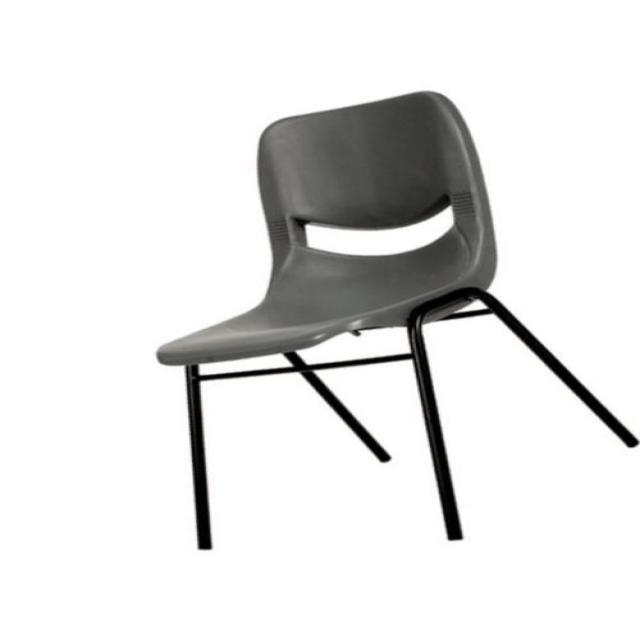chair: (152, 89, 640, 556)
